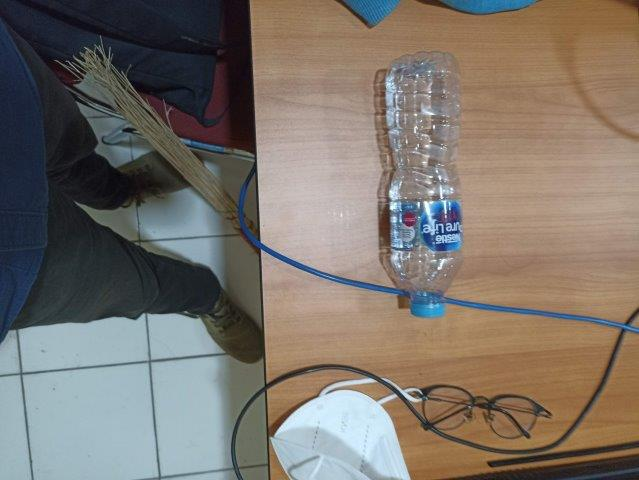botolplastik: (388, 50, 462, 316)
